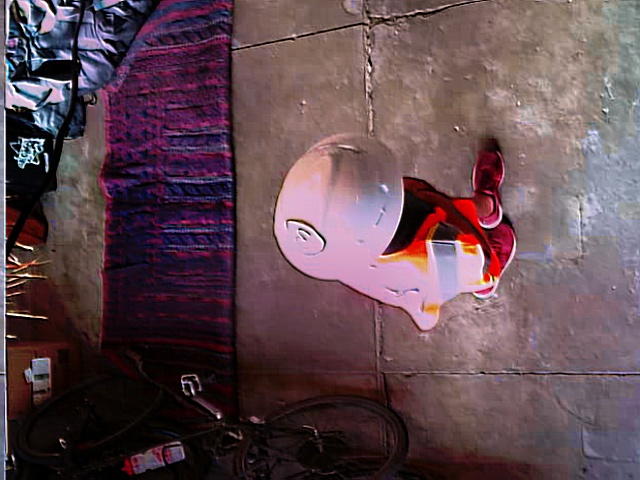three: (283, 219, 323, 255)
